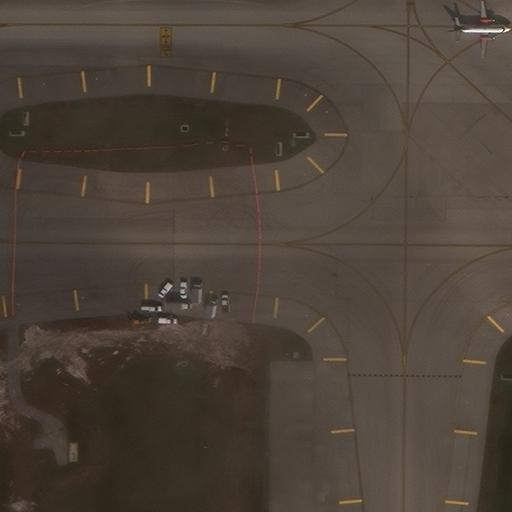Medium Civil Transport: (453, 0, 511, 59)
